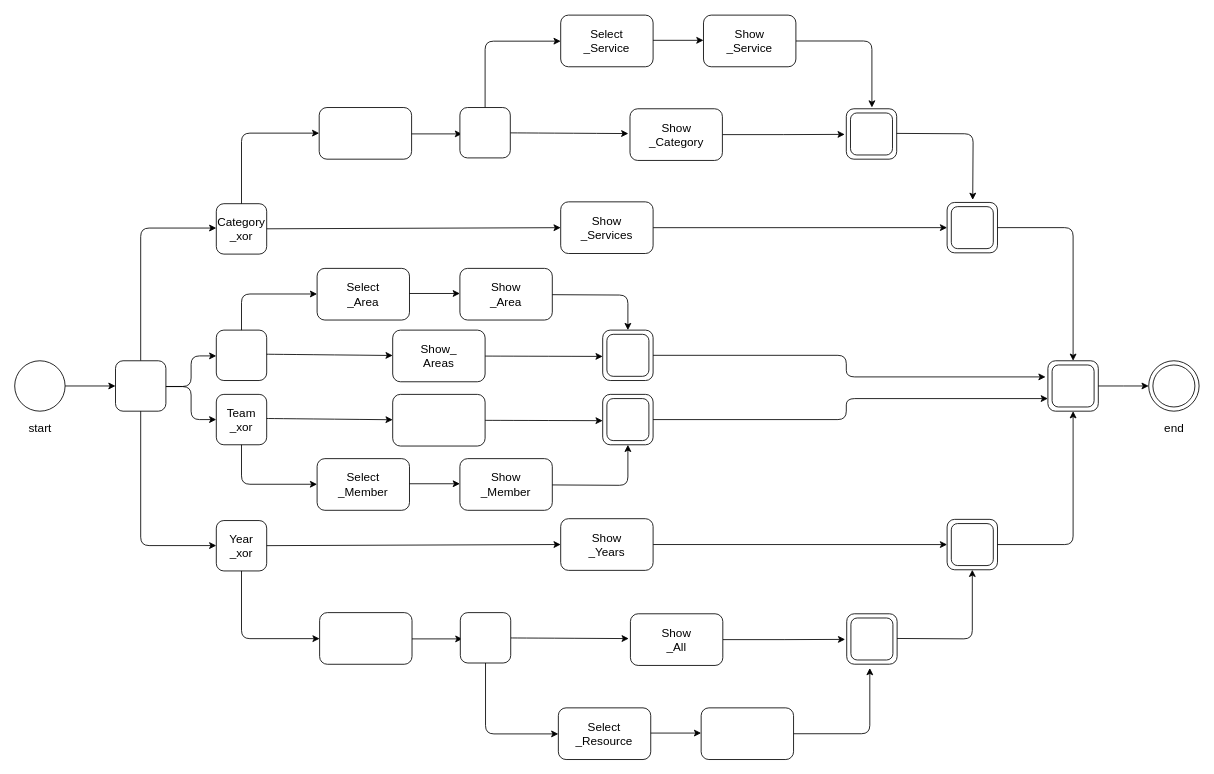
This 1214x774 diagram has some shape labels left out. Here are the shapes that lost their labels. From the top down, the centre of each, then its label:
At pixel 365 133: "Select _Categories".
At pixel 484 132: "Service _xor".
At pixel 241 355: "Area _xor".
At pixel 140 385: "First _xor".
At pixel 438 420: "Show_ Team".
At pixel 365 638: "Select _year".
At pixel 485 637: "Res. _xor".
At pixel 747 733: "Show _Resource".
